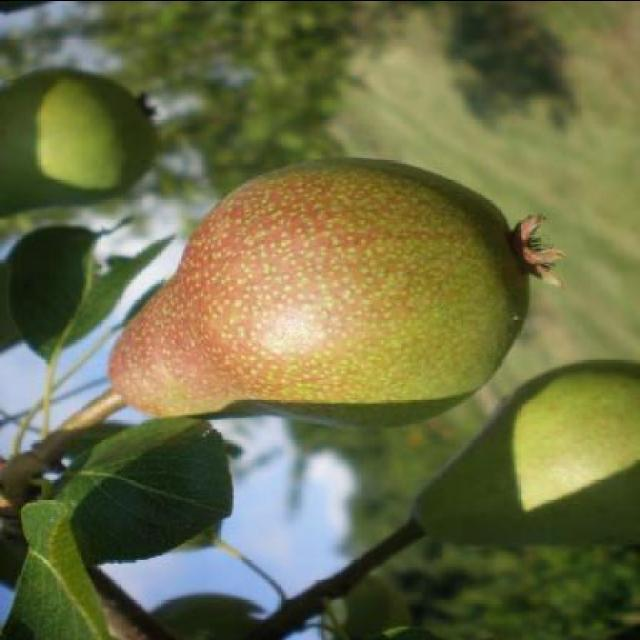Pear: (107, 156, 567, 430), (406, 354, 640, 546), (1, 66, 164, 220)
